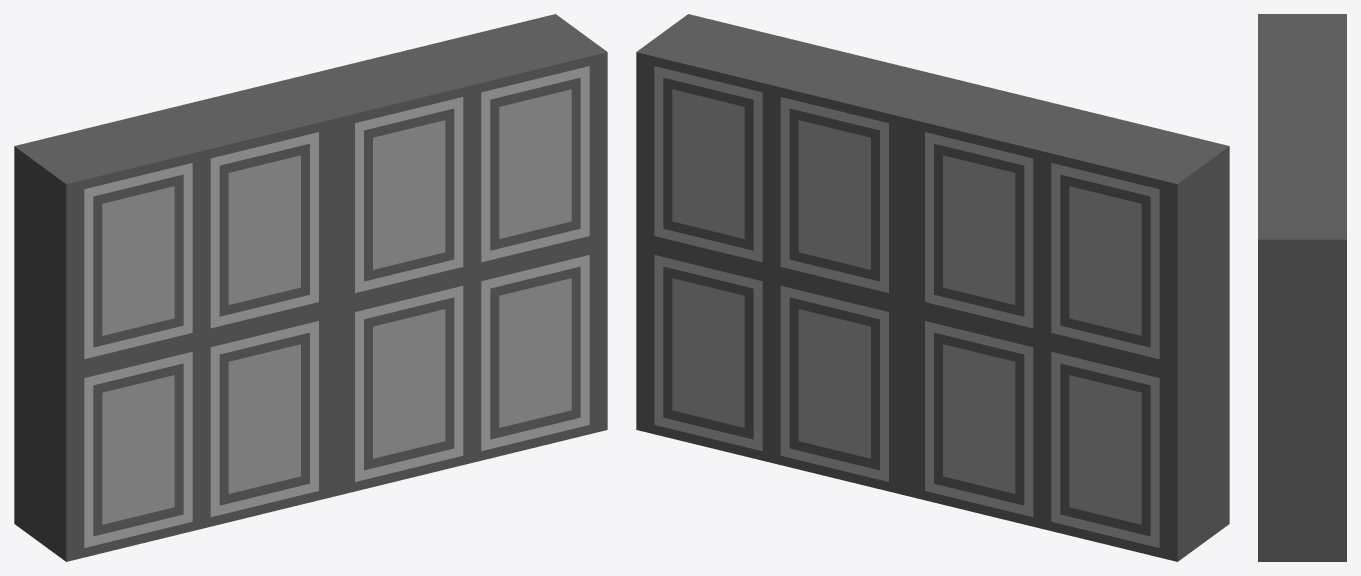
The model's file is Green House Wall 5.obj.
3 views of the same model, side by side, from view 1: azimuth 30°, elevation 25°; view 2: azimuth 150°, elevation 25°; view 3: azimuth 270°, elevation 25° (orthographic). The views are drawn at different scales.
Bounding box in the file's own units: 60 × 40 × 10.
1 material, 1 textured.
